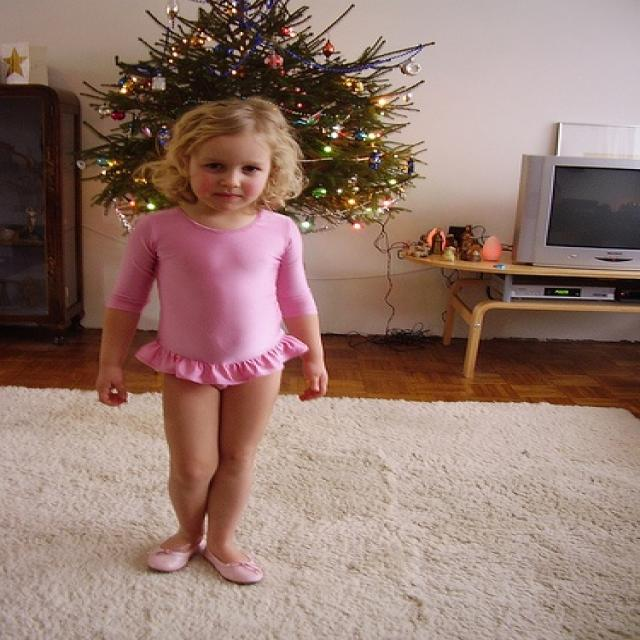tvmonitor: (512, 154, 638, 272)
